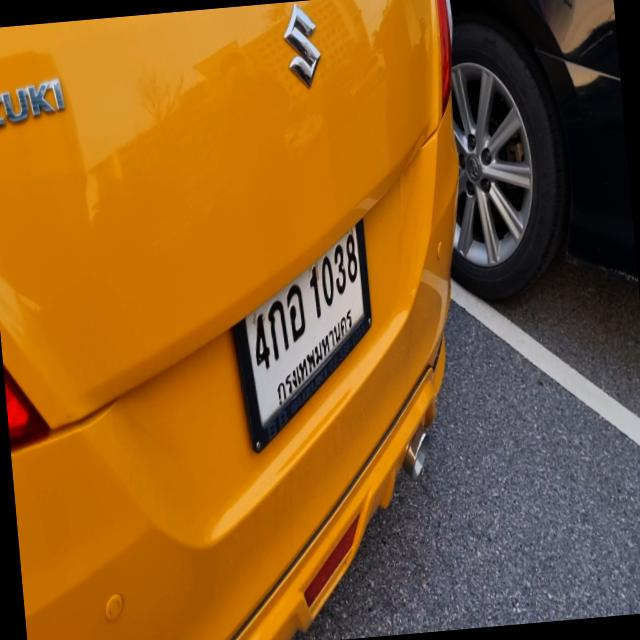license_plate: (222, 213, 385, 456)
